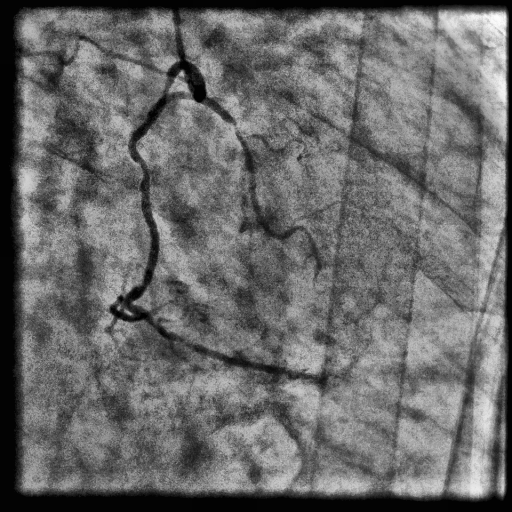pda: (123, 303, 324, 382)
rca: (124, 60, 207, 303)
